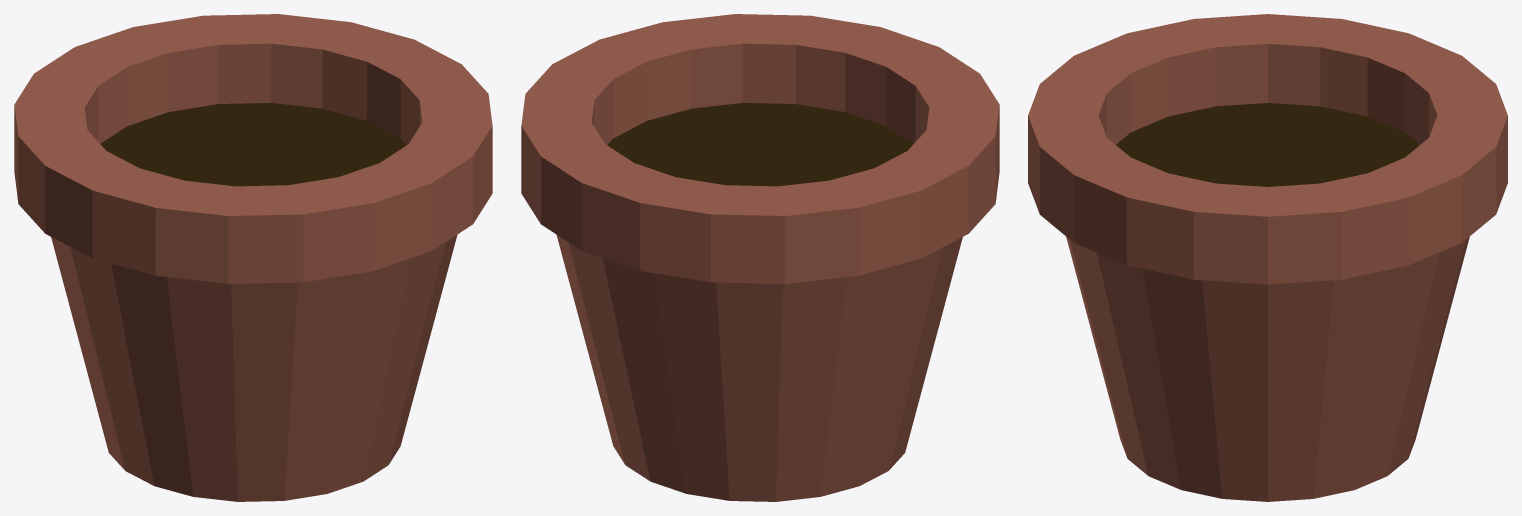
File: pot1.glb
3 views of the same model, side by side, from view 1: azimuth 30°, elevation 25°; view 2: azimuth 150°, elevation 25°; view 3: azimuth 270°, elevation 25° (orthographic).
Parts seen in each view (by area): view 1: Cylinder; view 2: Cylinder; view 3: Cylinder.
Part boxes in pixels (box(x1,y1,x2,y2)): Cylinder: box(14, 14, 492, 501); Cylinder: box(521, 14, 999, 501); Cylinder: box(1028, 14, 1507, 501).
Size of the model in its own units: 0.8401 by 0.6262 by 0.8401.
